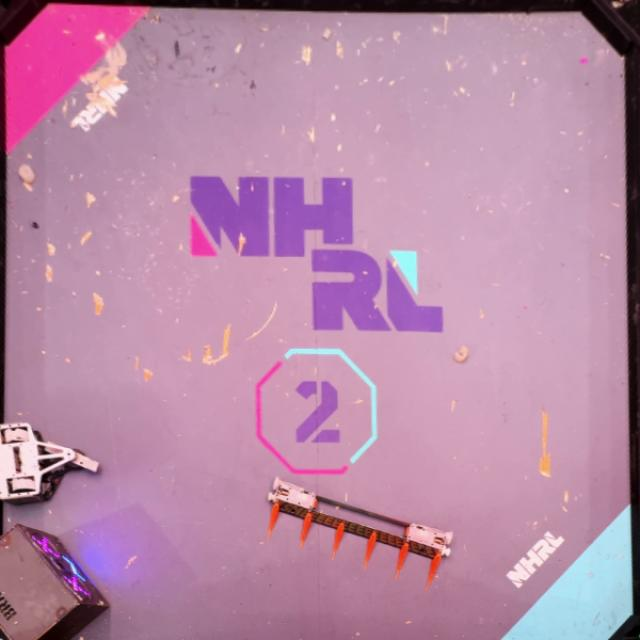housebot: (0, 525, 111, 640)
robot: (263, 476, 456, 584), (0, 419, 100, 504)
